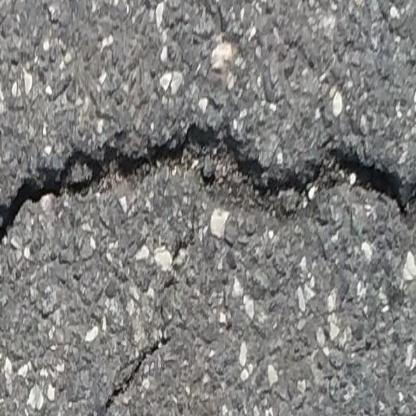Cracks: (0, 119, 416, 255), (101, 305, 175, 416)
